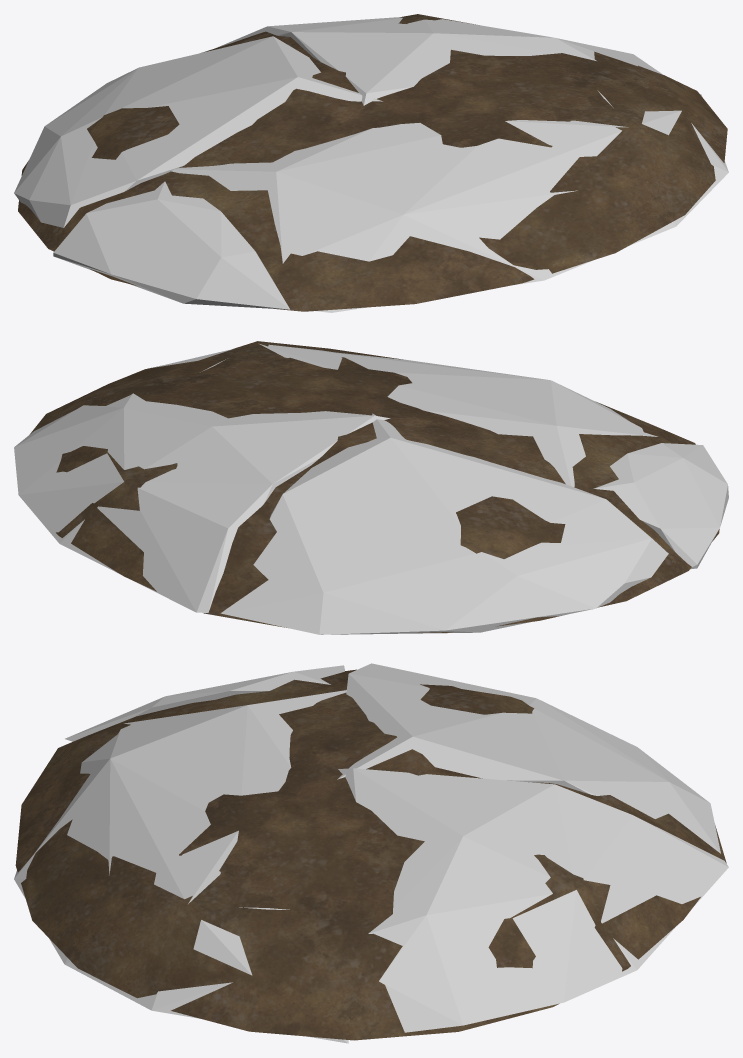
The model's file is SM_Dirt_Mound_A.fbx.
3 renders of one model, top to bottom at view 1: azimuth 30°, elevation 25°; view 2: azimuth 150°, elevation 25°; view 3: azimuth 270°, elevation 25°, orthographic. The views are drawn at different scales.
Visible parts, largest first — view 1: SM_Dirt_Mound_A_ConvexHulls, SM_Dirt_Mound_A; view 2: SM_Dirt_Mound_A_ConvexHulls, SM_Dirt_Mound_A; view 3: SM_Dirt_Mound_A_ConvexHulls, SM_Dirt_Mound_A.
Boxes of the visible parts, left/top/right/bottom form: SM_Dirt_Mound_A_ConvexHulls: left=14, top=17, right=728, bottom=312; SM_Dirt_Mound_A: left=18, top=14, right=727, bottom=311; SM_Dirt_Mound_A_ConvexHulls: left=14, top=343, right=728, bottom=634; SM_Dirt_Mound_A: left=29, top=341, right=719, bottom=632; SM_Dirt_Mound_A_ConvexHulls: left=14, top=663, right=728, bottom=1043; SM_Dirt_Mound_A: left=15, top=669, right=726, bottom=1040.
Bounding box in the file's own units: 209 × 175 × 28.06.
Materials: 2 (1 with a texture image).
